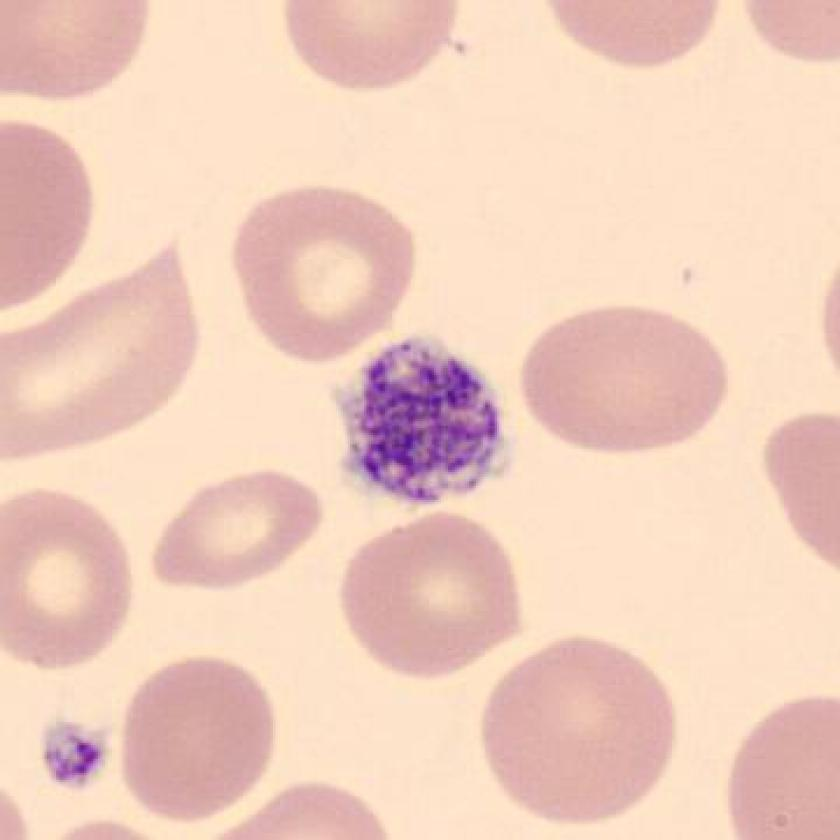platelets: (332, 334, 519, 522), (31, 707, 120, 804)
